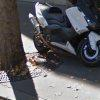Motorcycle: (23, 5, 100, 66)
